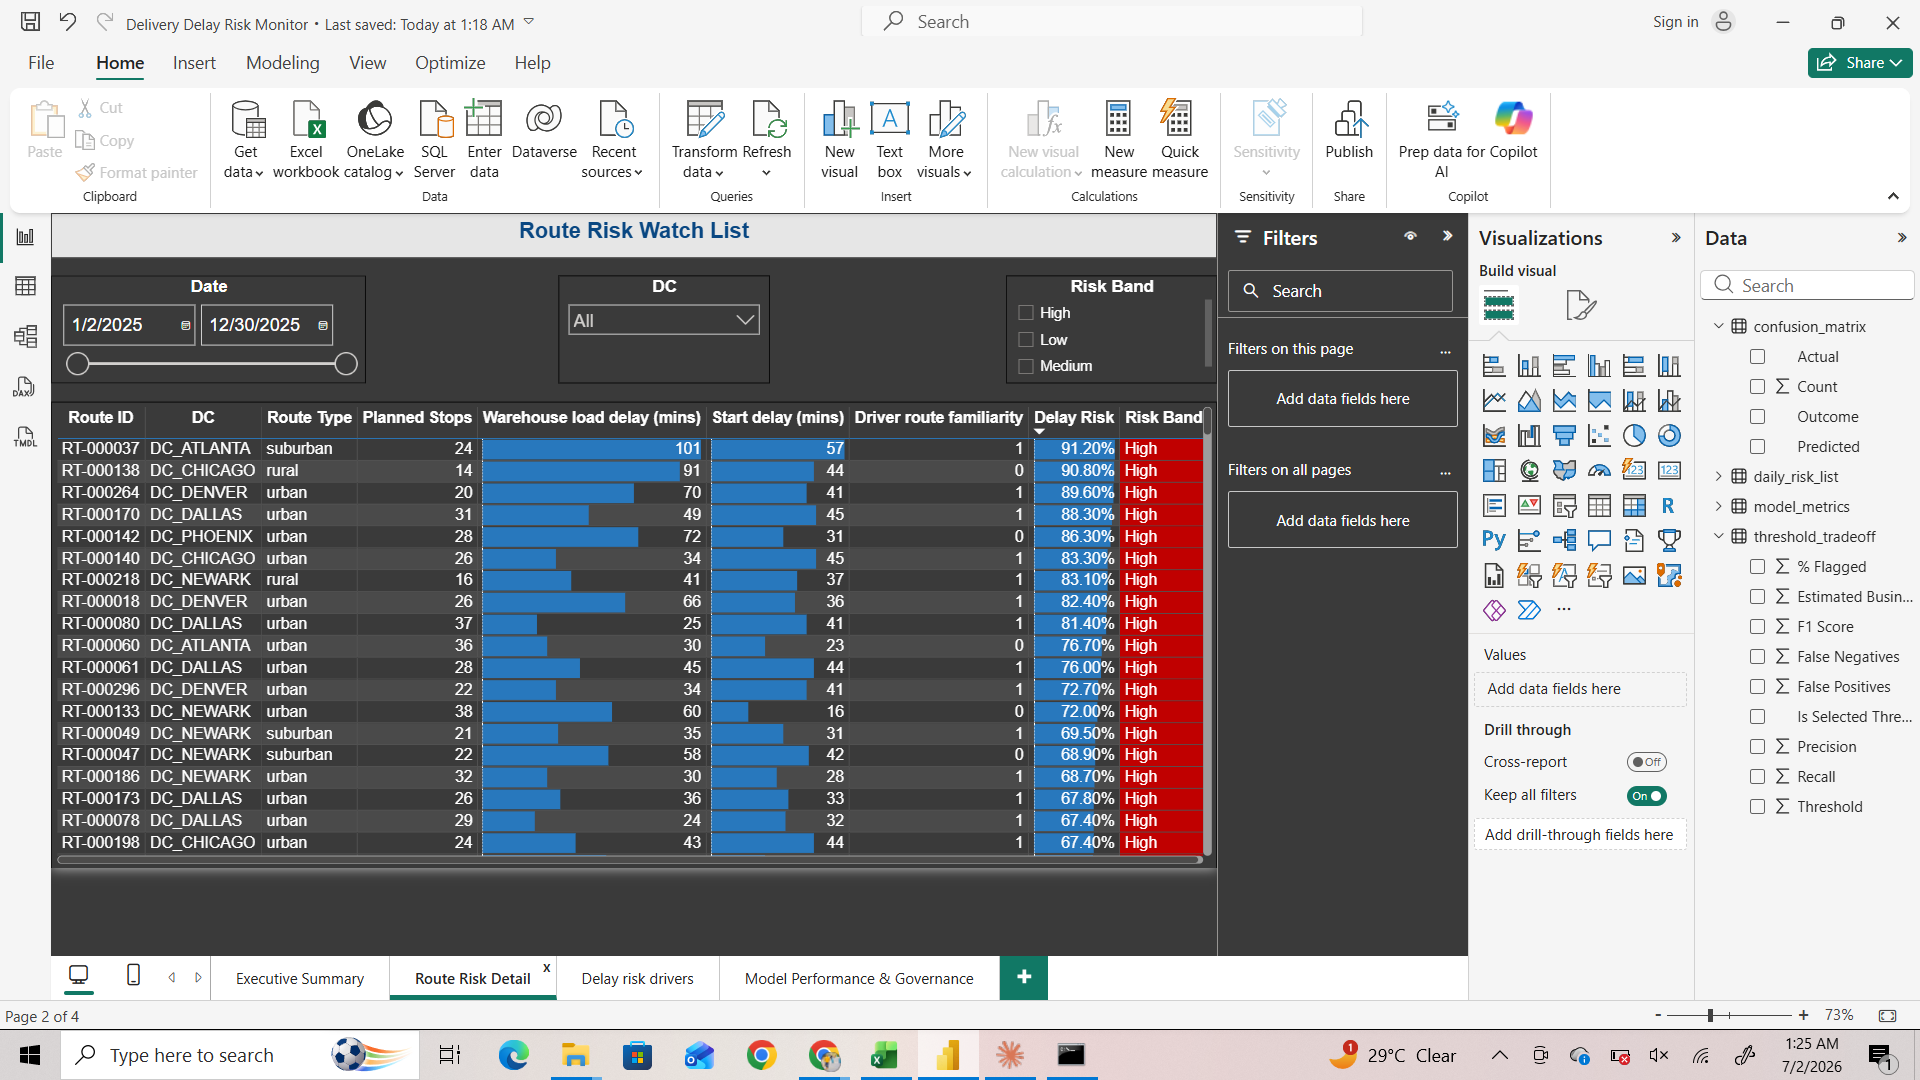

This screenshot's page, from the dashboard's own definition file:
{"tool":"powerbi","page":{"name":"Route Risk Detail","canvas":[1280,720],"ordinal":1},"visuals":[{"type":"textbox","box":[0,0,1280.3,49.4],"z":0},{"type":"tableEx","fields":{"Values":["daily_risk_list.route_id","daily_risk_list.dc","daily_risk_list.route_type","Sum(daily_risk_list.planned_stops)","Sum(daily_risk_list.warehouse_load_delay_min)","Sum(daily_risk_list.start_delay_min)","Sum(daily_risk_list.driver_route_familiarity)","Sum(daily_risk_list.delay_risk)","daily_risk_list.risk_band"]},"box":[0,207.2,1280.3,513.2],"z":1},{"type":"slicer","title":"Date","fields":{"Values":["daily_risk_list.route_date"]},"box":[0,68.6,345.8,118],"z":2},{"type":"slicer","title":"DC","fields":{"Values":["daily_risk_list.dc"]},"box":[557.1,68.6,231.9,118],"z":3},{"type":"slicer","title":"Risk Band","fields":{"Values":["daily_risk_list.risk_band"]},"box":[1048.4,68.6,231.9,126.2],"z":4}]}

Visuals, with their boxes on the page's 1280x720 design canvas (x1, y1, x2, y2). These are canvas units, not pixel positions in the 1920x1080 screenshot, which may show the page scaled, cropped or inside an application window:
textbox: l=0, t=0, r=1280, b=49
tableEx - daily_risk_list.route_id x daily_risk_list.dc: l=0, t=207, r=1280, b=720
"Date" slicer: l=0, t=69, r=346, b=187
"DC" slicer: l=557, t=69, r=789, b=187
"Risk Band" slicer: l=1048, t=69, r=1280, b=195
